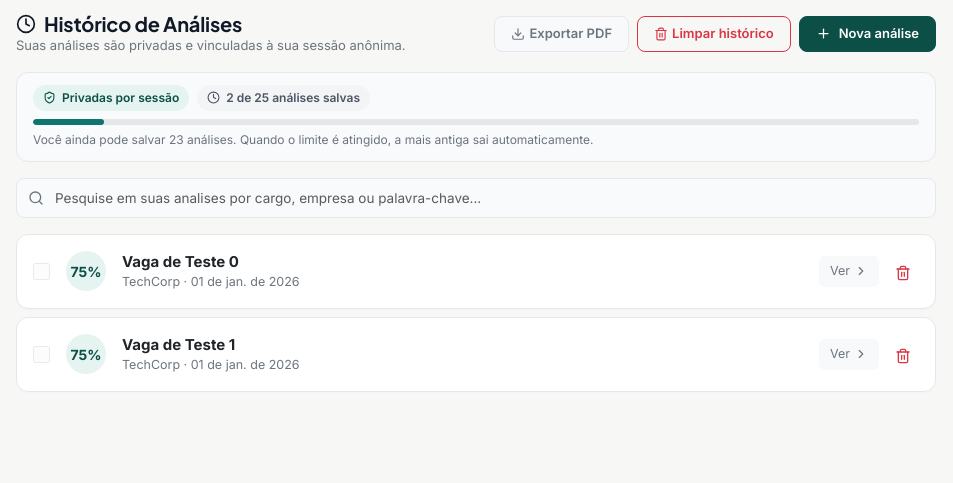
Test: AnaliseList — exportar histórico em PDF › desabilita Exportar enquanto nenhuma análise está marcada
expect the text "Vaga de Teste 0" is shown: met, box [122, 252, 239, 270]
Click the button "Exportar PDF": (562, 34) [494, 16, 629, 52]
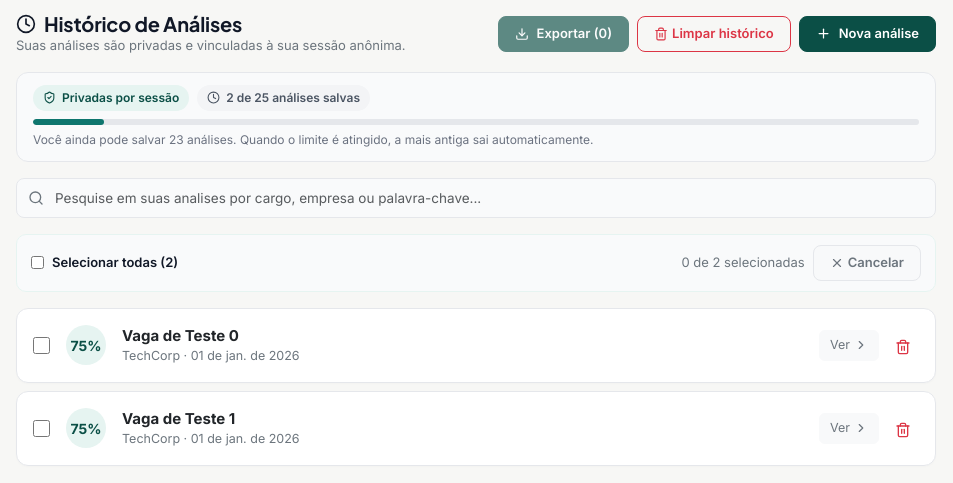
expect the button "Exportar (0)" is disabled: met, box [498, 16, 629, 52]
Click the checkbox named "Vaga de Teste 0": (42, 345) [33, 337, 50, 354]
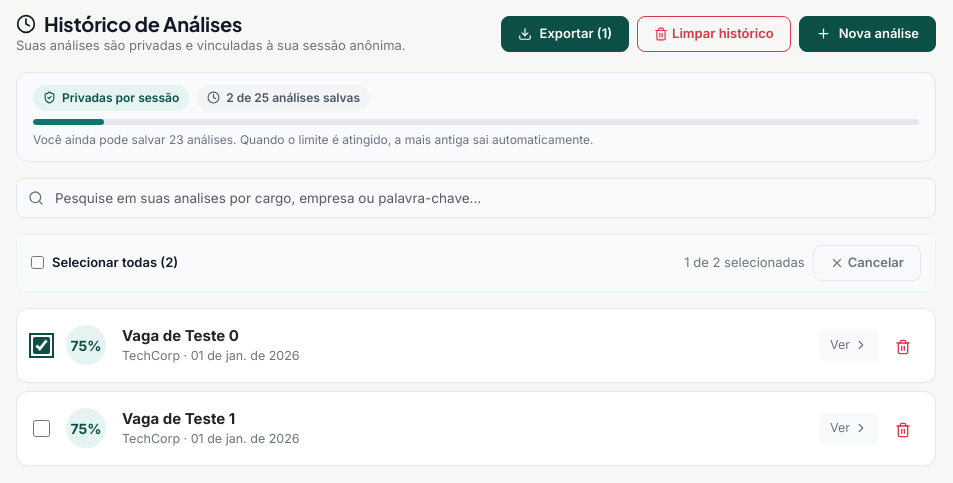
expect the button "Exportar (1)" is enabled: met, box [501, 16, 629, 52]
